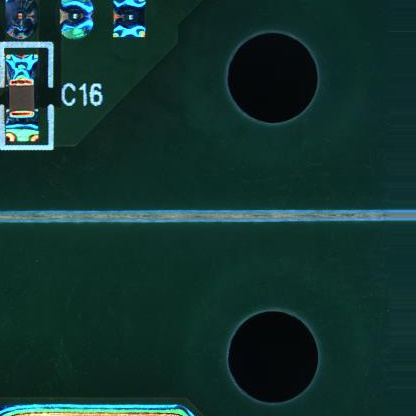spot: (60, 1, 98, 43), (112, 1, 150, 43), (2, 1, 39, 40)
